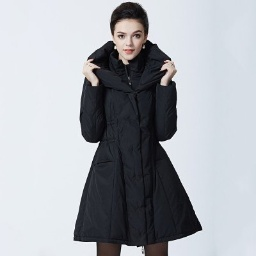face: (102, 1, 151, 62)
